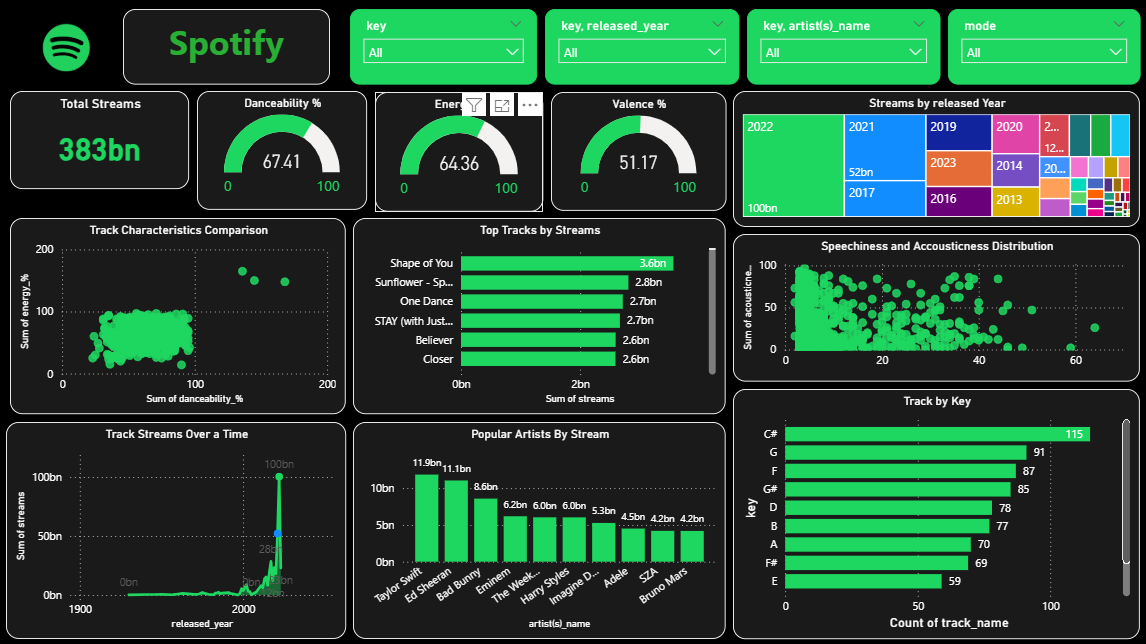

Layout of this report page (visuals, bound fields, positions):
{"tool":"powerbi","page":{"name":"Page 1","canvas":[1280,720],"ordinal":0},"visuals":[{"type":"slicer","fields":{"Values":["spotify-2023.key"]},"box":[392,9.7,208.1,83.6],"z":0},{"type":"slicer","fields":{"Values":["spotify-2023.key","spotify-2023.released_year"]},"box":[608.9,9.7,215.9,83.6],"z":1000},{"type":"slicer","fields":{"Values":["spotify-2023.key","spotify-2023.artist(s)_name"]},"box":[833.6,9.7,215,83.6],"z":2000},{"type":"slicer","fields":{"Values":["spotify-2023.mode"]},"box":[1056.3,9.7,214,83.6],"z":3000},{"type":"card","title":"Total Streams","fields":{"Values":["Sum(spotify-2023.streams)"]},"box":[14.6,101.2,199.4,108.9],"z":4000},{"type":"gauge","title":" Danceability %","fields":{"Y":["Avg(spotify-2023.danceability_%)"]},"box":[222.7,101.2,188.7,132.3],"z":5000},{"type":"gauge","title":"Energy  %","fields":{"Y":["Avg(spotify-2023.energy_%)"]},"box":[420.2,102.1,186.7,133.3],"z":6000},{"type":"gauge","title":"Valence  %","fields":{"Y":["Avg(spotify-2023.valence_%)"]},"box":[615.7,102.1,194.5,132.3],"z":7000},{"type":"treemap","title":" Streams by released Year","fields":{"Group":["spotify-2023.released_year"],"Values":["Sum(spotify-2023.streams)"]},"box":[818,101.2,452.3,150.8],"z":8000},{"type":"scatterChart","title":"Track Characteristics Comparison","fields":{"Category":["spotify-2023.streams"],"X":["Sum(spotify-2023.danceability_%)"],"Y":["Sum(spotify-2023.energy_%)"]},"box":[14.6,242.2,373.5,217.9],"z":9000},{"type":"barChart","title":"Top Tracks by Streams","fields":{"Y":["Sum(spotify-2023.streams)"],"Category":["spotify-2023.track_name"]},"box":[395.9,242.2,414.3,217.9],"z":10000},{"type":"scatterChart","title":"Speechiness and Accousticness Distribution","fields":{"Category":["spotify-2023.streams"],"X":["Sum(spotify-2023.speechiness_%)"],"Y":["Sum(spotify-2023.acousticness_%)"]},"box":[818,259.7,452.3,164.4],"z":11000},{"type":"areaChart","title":"Track Streams Over a Time","fields":{"Category":["spotify-2023.released_year"],"Y":["Sum(spotify-2023.streams)"]},"box":[9.7,468.8,378.4,241.2],"z":12000},{"type":"columnChart","title":"Popular Artists By Stream","fields":{"Category":["spotify-2023.artist(s)_name"],"Y":["Sum(spotify-2023.streams)"]},"box":[395.9,468.8,414.3,241.2],"z":13000},{"type":"barChart","title":"Track by Key","fields":{"Y":["CountNonNull(spotify-2023.track_name)"],"Category":["spotify-2023.key"]},"box":[818,431.9,452.3,278.2],"z":14000},{"type":"textbox","box":[140.1,9.7,229.5,83.6],"z":15000},{"type":"image","box":[14.6,12.6,125.5,80.7],"z":15001}]}

Visuals, with their boxes in screenshot pixels (x1, y1, x2, y2), scaled from the page's 1280x720 canvas onto the 1146x644 screenshot:
slicer - spotify-2023.key: [351, 9, 537, 83]
slicer - spotify-2023.key x spotify-2023.released_year: [545, 9, 738, 83]
slicer - spotify-2023.key x spotify-2023.artist(s)_name: [746, 9, 939, 83]
slicer - spotify-2023.mode: [946, 9, 1137, 83]
"Total Streams" card: [13, 91, 192, 188]
" Danceability %" gauge: [199, 91, 368, 209]
"Energy  %" gauge: [376, 91, 543, 211]
"Valence  %" gauge: [551, 91, 725, 210]
" Streams by released Year" treemap: [732, 91, 1137, 225]
"Track Characteristics Comparison" scatterChart: [13, 217, 347, 412]
"Top Tracks by Streams" barChart: [354, 217, 725, 412]
"Speechiness and Accousticness Distribution" scatterChart: [732, 232, 1137, 379]
"Track Streams Over a Time" areaChart: [9, 419, 347, 635]
"Popular Artists By Stream" columnChart: [354, 419, 725, 635]
"Track by Key" barChart: [732, 386, 1137, 635]
textbox: [125, 9, 331, 83]
image: [13, 11, 125, 83]
